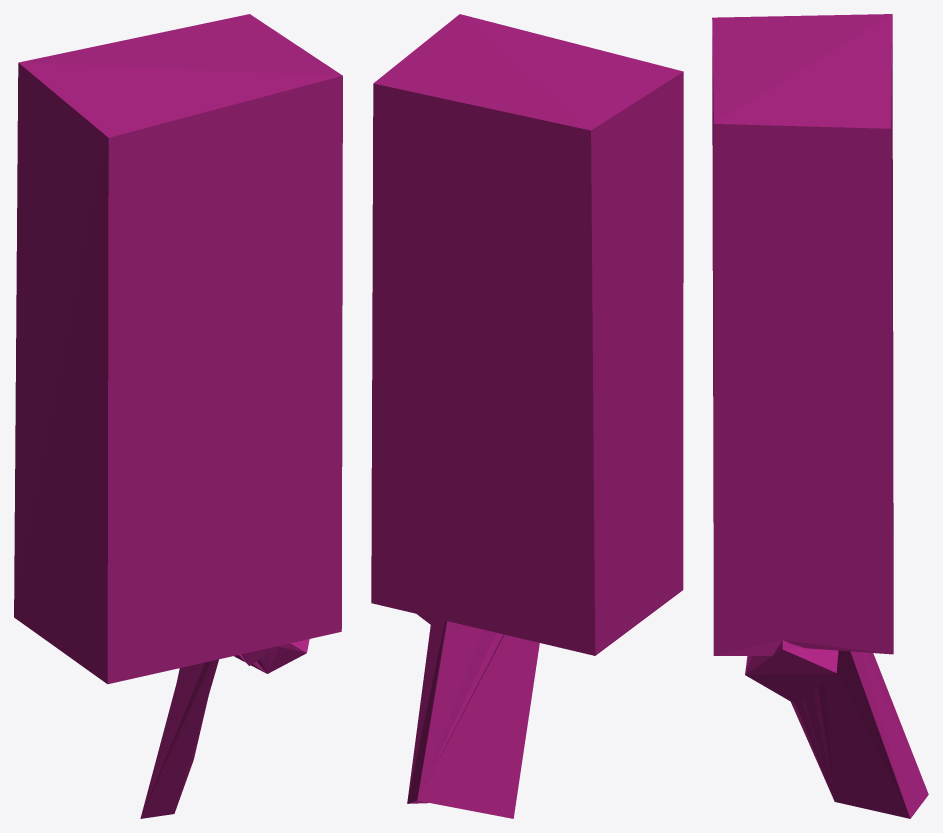
The picture shows the model from 3 angles, left to right: view 1: azimuth 30°, elevation 25°; view 2: azimuth 150°, elevation 25°; view 3: azimuth 270°, elevation 25°; orthographic projection. The views are drawn at different scales.
Parts seen in each view (by area): view 1: 413_Cube.1677; view 2: 413_Cube.1677; view 3: 413_Cube.1677.
Boxes of the visible parts, left/top/right/bottom form: 413_Cube.1677: left=14, top=14, right=342, bottom=818; 413_Cube.1677: left=371, top=14, right=683, bottom=818; 413_Cube.1677: left=712, top=14, right=928, bottom=818.
Bounding box in the file's own units: 5.64 × 16.64 × 4.45.
